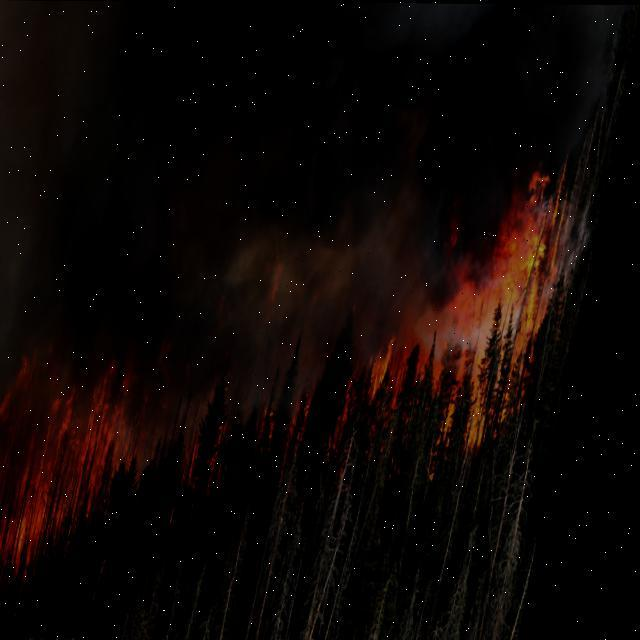Fire: (374, 162, 586, 453), (0, 349, 193, 631)
